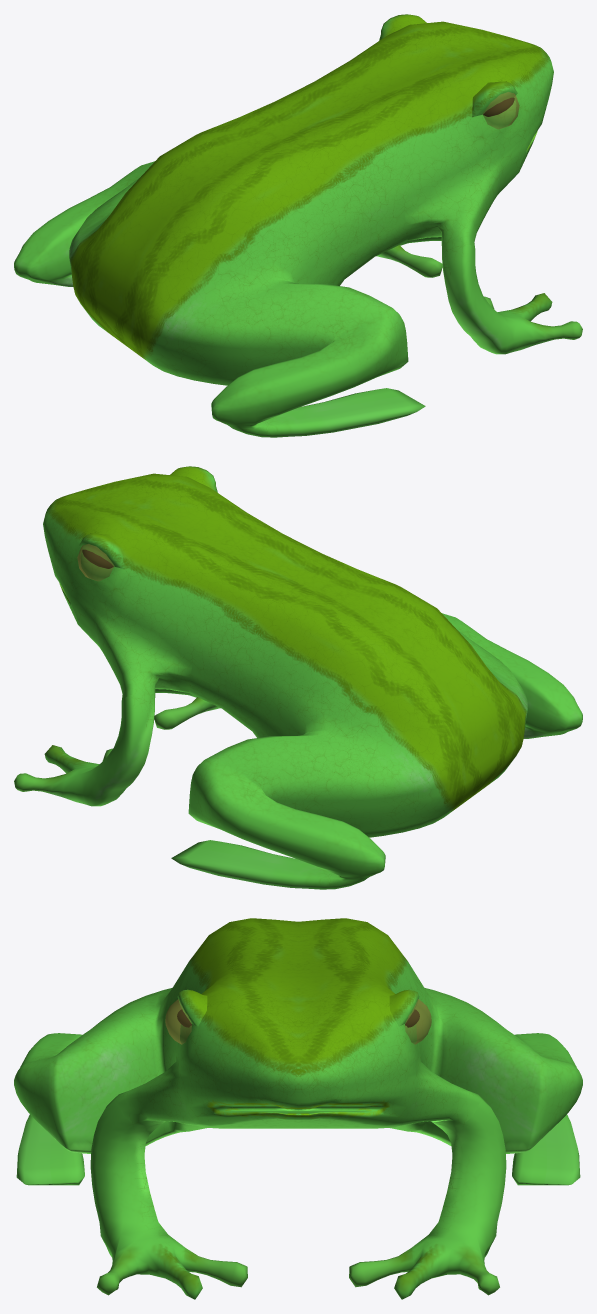
The model's file is palaka.fbx.
The picture shows the model from 3 angles, top to bottom: view 1: azimuth 30°, elevation 25°; view 2: azimuth 150°, elevation 25°; view 3: azimuth 270°, elevation 25°; orthographic projection. The views are drawn at different scales.
Visible parts, largest first — view 1: polySurface16, polySurface18; view 2: polySurface16, polySurface15; view 3: polySurface16, polySurface15, polySurface18.
Boxes of the visible parts, x1,y1,x2,y2 form: polySurface16: (14, 14, 582, 437); polySurface18: (483, 92, 519, 129); polySurface16: (14, 466, 582, 889); polySurface15: (77, 544, 113, 581); polySurface16: (14, 918, 582, 1299); polySurface15: (405, 999, 431, 1044); polySurface18: (165, 999, 191, 1044).
Bounding box in the file's own units: 3.88 × 2.12 × 3.75.
3 materials, 1 textured.
